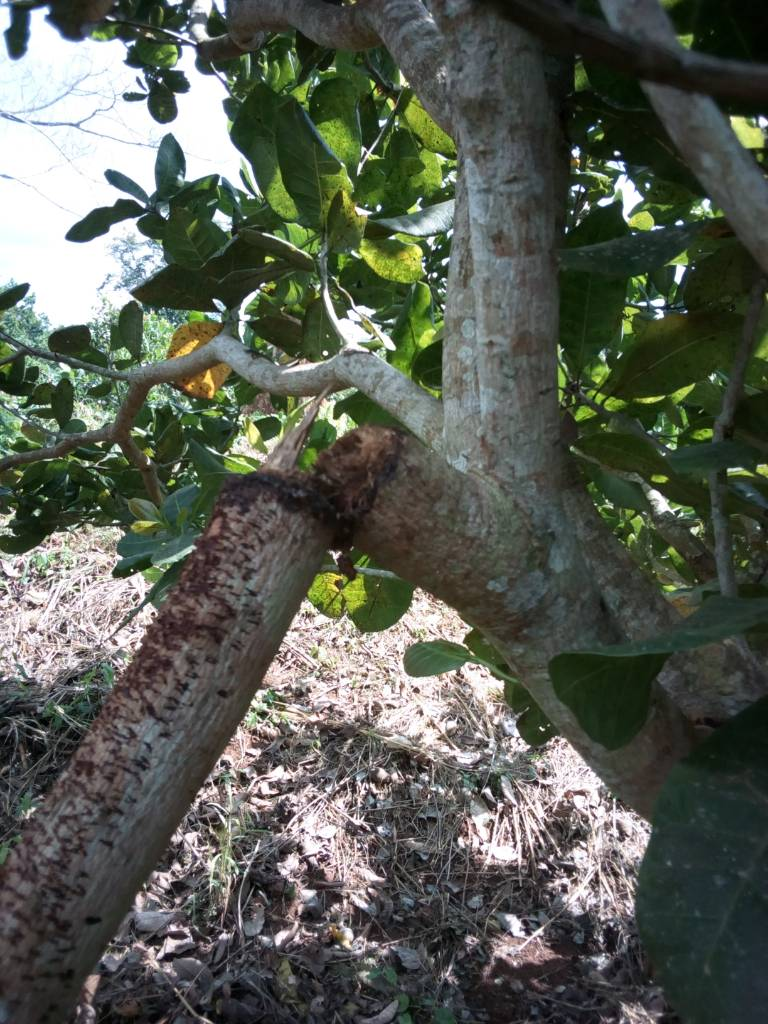Analepse trifasciata: (188, 421, 440, 561)
